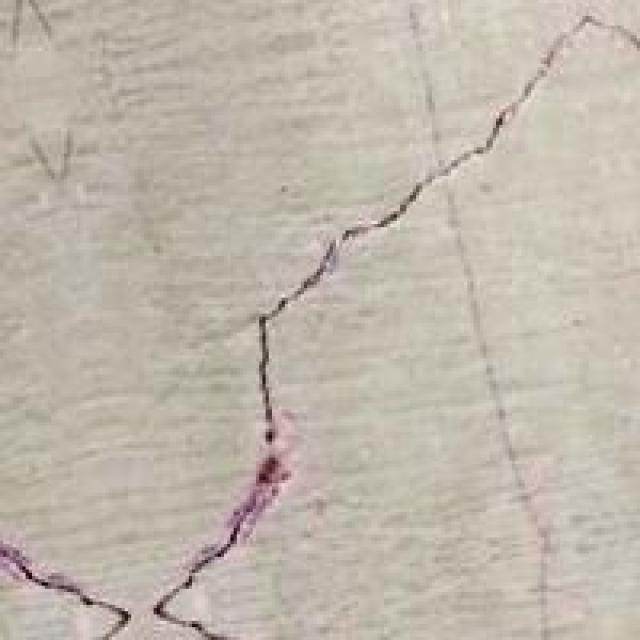minor crack: (0, 200, 631, 632)
severe crack: (309, 16, 609, 288)
